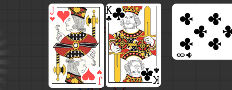8C: (176, 52, 194, 59)
JH: (49, 6, 57, 23)
